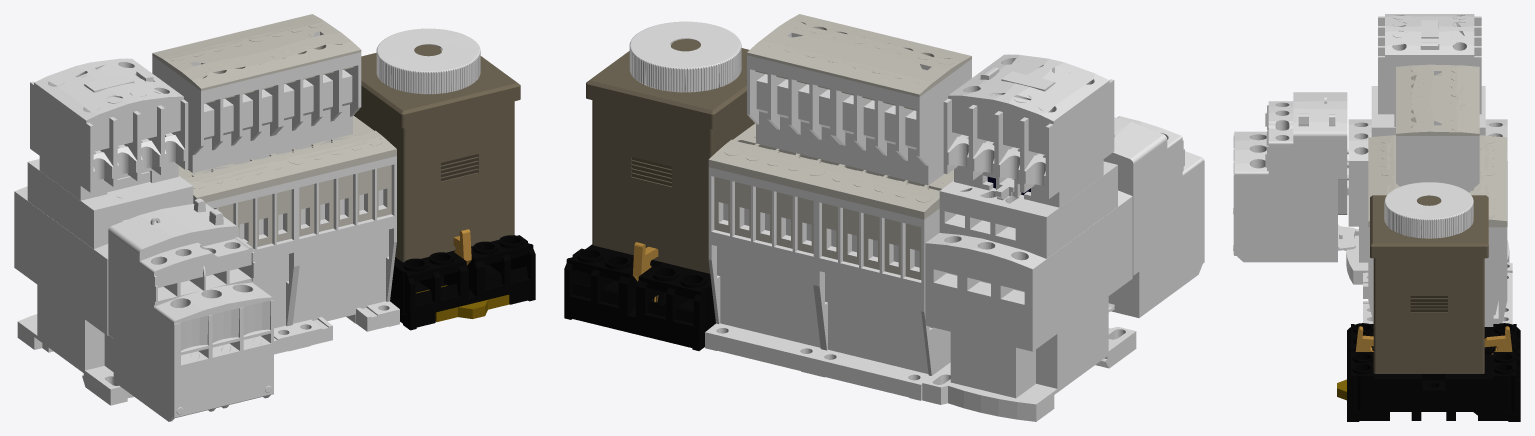
The model's file is whole_part.fbx.
3 renders of one model, left to right at view 1: azimuth 30°, elevation 25°; view 2: azimuth 150°, elevation 25°; view 3: azimuth 270°, elevation 25°, orthographic. The views are drawn at different scales.
Parts seen in each view (by area): view 1: dilm7-10_110v50hz_120v60hz_, lrd10c, dila-xhi22, timer2_v0.003, cad50m7.001, ladn22p, 70178118_2, timer2_v0.004; view 2: dilm7-10_110v50hz_120v60hz_, cad50m7.001, dila-xhi22, timer2_v0.003, ladn22p, lrd10c, 70178118_2, timer2_v0.004; view 3: lrd10c, timer2_v0.003, 70178118_2, dila-xhi22, dilm7-10_110v50hz_120v60hz_, ladn22p, cad50m7.001, timer2_v0.004.
Boxes of the visible parts, x1=… form: dilm7-10_110v50hz_120v60hz_: x1=178, y1=115, x2=399, y2=354; lrd10c: x1=108, y1=198, x2=273, y2=421; dila-xhi22: x1=152, y1=14, x2=361, y2=172; timer2_v0.003: x1=354, y1=44, x2=520, y2=262; cad50m7.001: x1=14, y1=159, x2=193, y2=405; ladn22p: x1=30, y1=58, x2=188, y2=200; 70178118_2: x1=390, y1=229, x2=535, y2=330; timer2_v0.004: x1=376, y1=28, x2=480, y2=94; dilm7-10_110v50hz_120v60hz_: x1=705, y1=123, x2=953, y2=400; cad50m7.001: x1=922, y1=161, x2=1136, y2=421; dila-xhi22: x1=747, y1=14, x2=971, y2=185; timer2_v0.003: x1=586, y1=39, x2=754, y2=273; ladn22p: x1=943, y1=54, x2=1114, y2=207; lrd10c: x1=1103, y1=116, x2=1204, y2=317; 70178118_2: x1=564, y1=242, x2=715, y2=350; timer2_v0.004: x1=629, y1=21, x2=741, y2=92; lrd10c: x1=1233, y1=92, x2=1355, y2=262; timer2_v0.003: x1=1370, y1=195, x2=1488, y2=373; 70178118_2: x1=1337, y1=323, x2=1520, y2=421; dila-xhi22: x1=1396, y1=64, x2=1479, y2=192; dilm7-10_110v50hz_120v60hz_: x1=1363, y1=135, x2=1512, y2=326; ladn22p: x1=1378, y1=14, x2=1481, y2=126; cad50m7.001: x1=1344, y1=86, x2=1512, y2=284; timer2_v0.004: x1=1384, y1=182, x2=1473, y2=238.
Bounding box in the file's own units: 19206 × 11792 × 13035.
